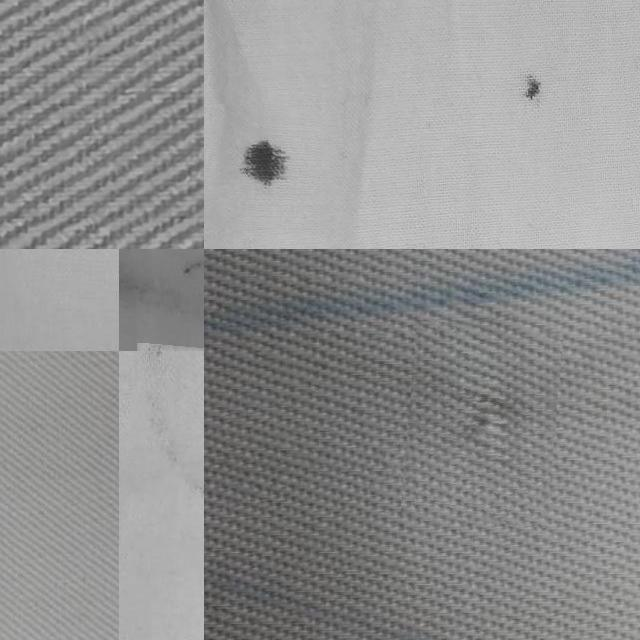Thread_other: (124, 347, 204, 565), (204, 106, 332, 232), (494, 45, 578, 134), (118, 249, 204, 333)
stains: (404, 322, 559, 524)
